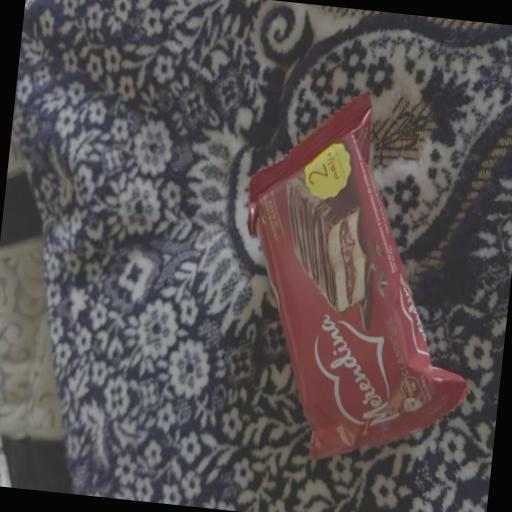merendina: (175, 71, 512, 492)
